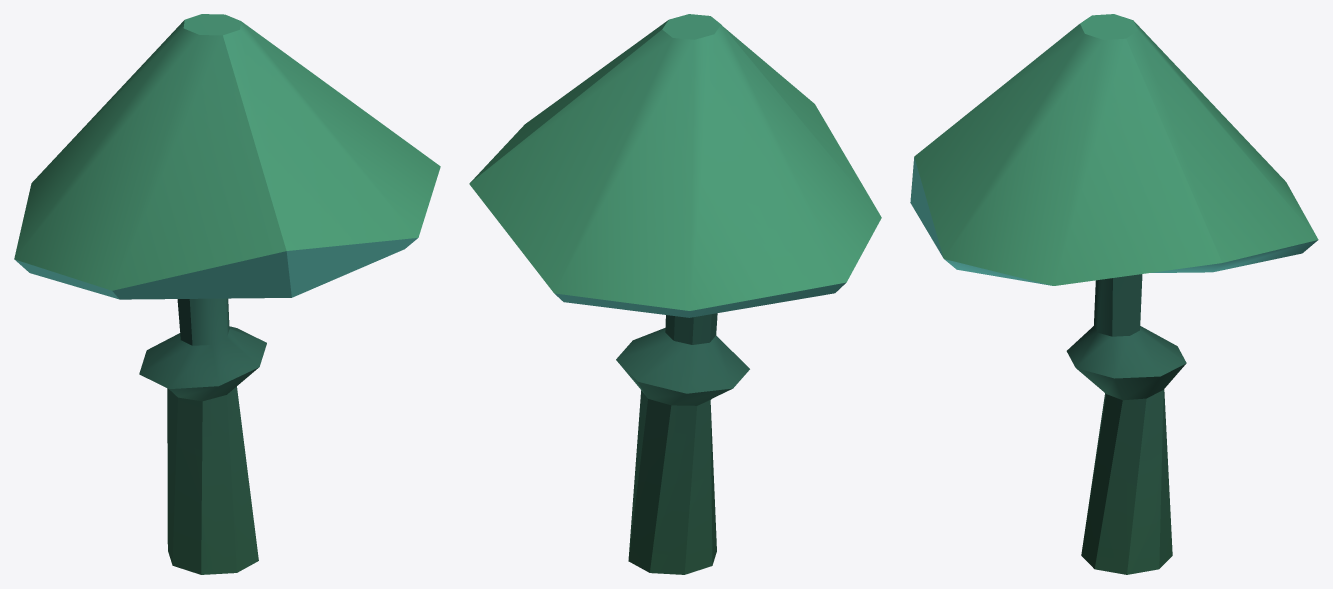
Rendered from Mushroom_C_2.fbx.
The picture shows the model from 3 angles, left to right: view 1: azimuth 30°, elevation 25°; view 2: azimuth 150°, elevation 25°; view 3: azimuth 270°, elevation 25°; orthographic projection. The views are drawn at different scales.
Parts seen in each view (by area): view 1: Mushroom_C_2; view 2: Mushroom_C_2; view 3: Mushroom_C_2.
Boxes of the visible parts, box(x1,y1,x2,y2) form: Mushroom_C_2: box(14, 14, 440, 574); Mushroom_C_2: box(469, 14, 881, 574); Mushroom_C_2: box(910, 14, 1318, 574).
Size of the model in its own units: 14.14 by 19.33 by 13.61.
